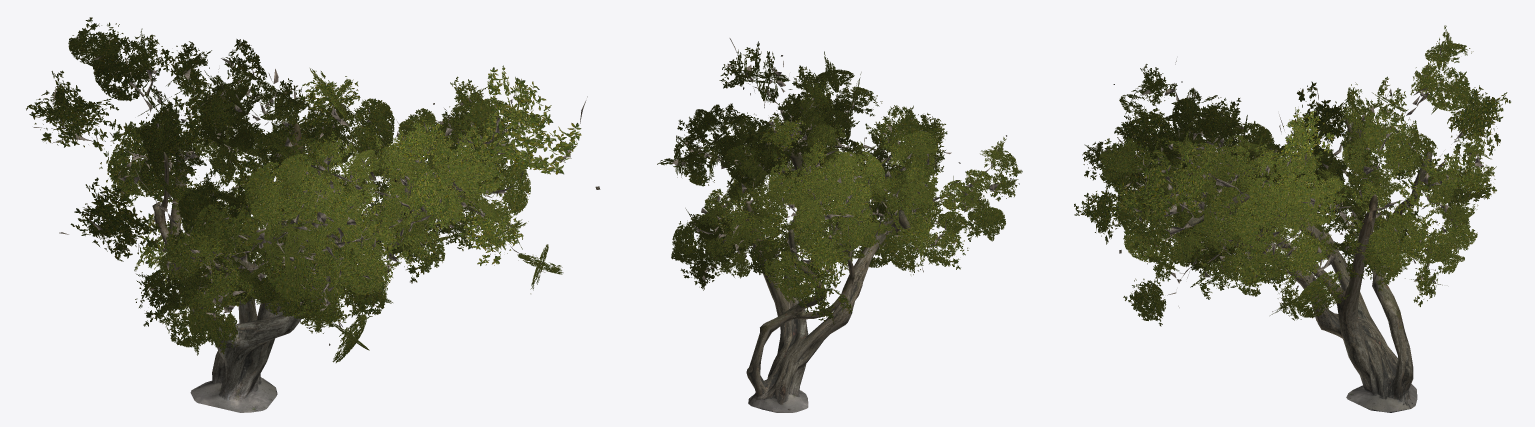
The model's file is island_tree_02_nah.gltf.
3 views of the same model, side by side, from view 1: azimuth 30°, elevation 25°; view 2: azimuth 150°, elevation 25°; view 3: azimuth 270°, elevation 25° (orthographic). The views are drawn at different scales.
Visible parts, largest first — view 1: baum; view 2: baum; view 3: baum.
Part boxes in pixels (x1=…): baum: x1=26, y1=17, x2=600, y2=412; baum: x1=657, y1=38, x2=1022, y2=412; baum: x1=1074, y1=25, x2=1510, y2=412.
Size of the model in its own units: 4.16 by 3.61 by 4.49.
Materials: 3 (3 with a texture image).
